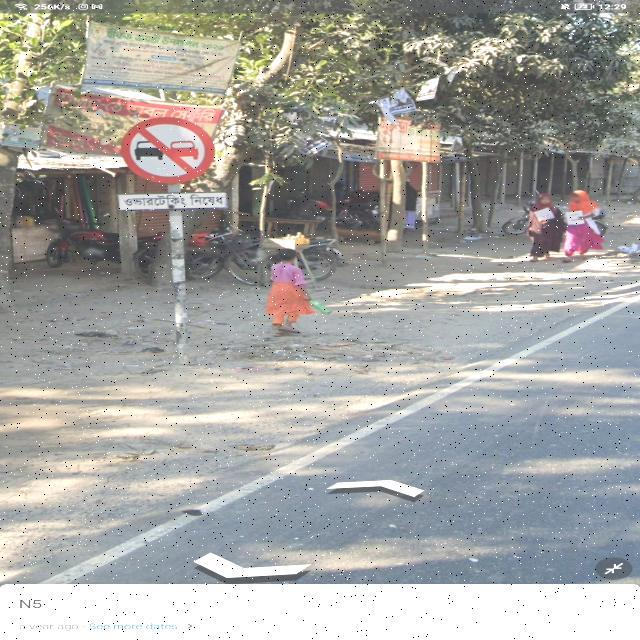Don-t-Overtracking: (117, 98, 232, 241)
